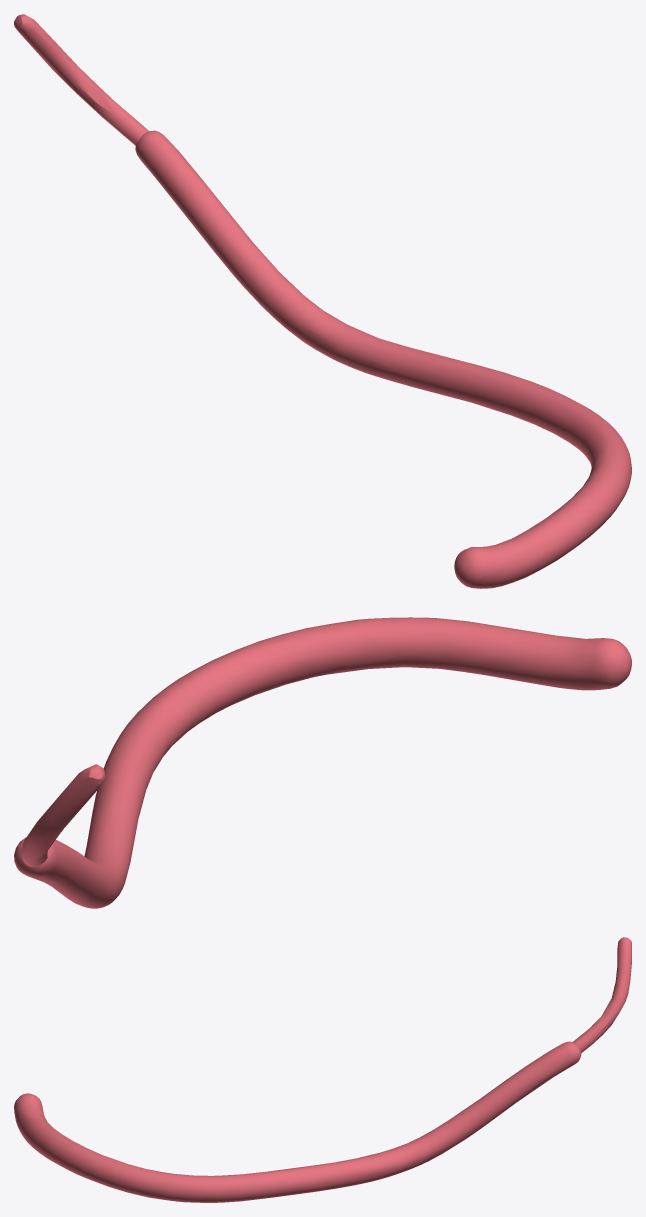
File: fma50642_cx100m.glb
3 views of the same model, one above another, from view 1: azimuth 30°, elevation 25°; view 2: azimuth 150°, elevation 25°; view 3: azimuth 270°, elevation 25° (orthographic). The views are drawn at different scales.
Parts seen in each view (by area): view 1: FMA50642_CX100M; view 2: FMA50642_CX100M; view 3: FMA50642_CX100M.
Part boxes in pixels (x1,y1,x2,y2): FMA50642_CX100M: (14, 14, 631, 588); FMA50642_CX100M: (14, 617, 631, 908); FMA50642_CX100M: (14, 937, 631, 1202).
Size of the model in its own units: 0.014 by 0.0132 by 0.0402.
